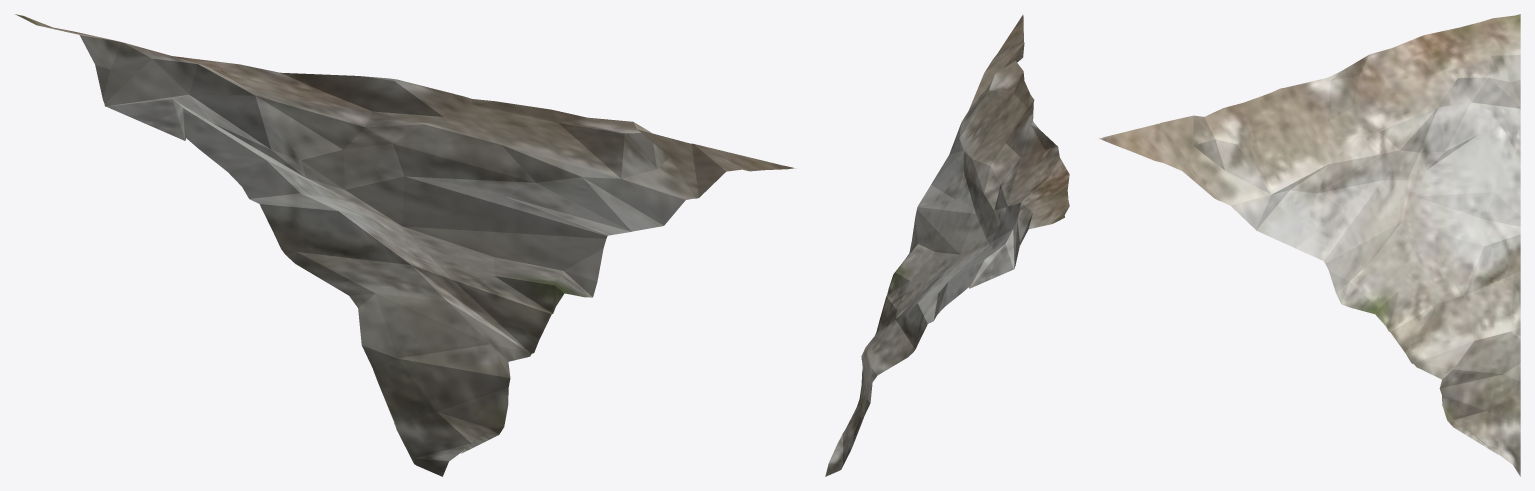
3 views of the same model, side by side, from view 1: azimuth 30°, elevation 25°; view 2: azimuth 150°, elevation 25°; view 3: azimuth 270°, elevation 25° (orthographic). The views are drawn at different scales.
Bounding box in the file's own units: 2.08 × 2.64 × 2.98.
1 material, 1 textured.
